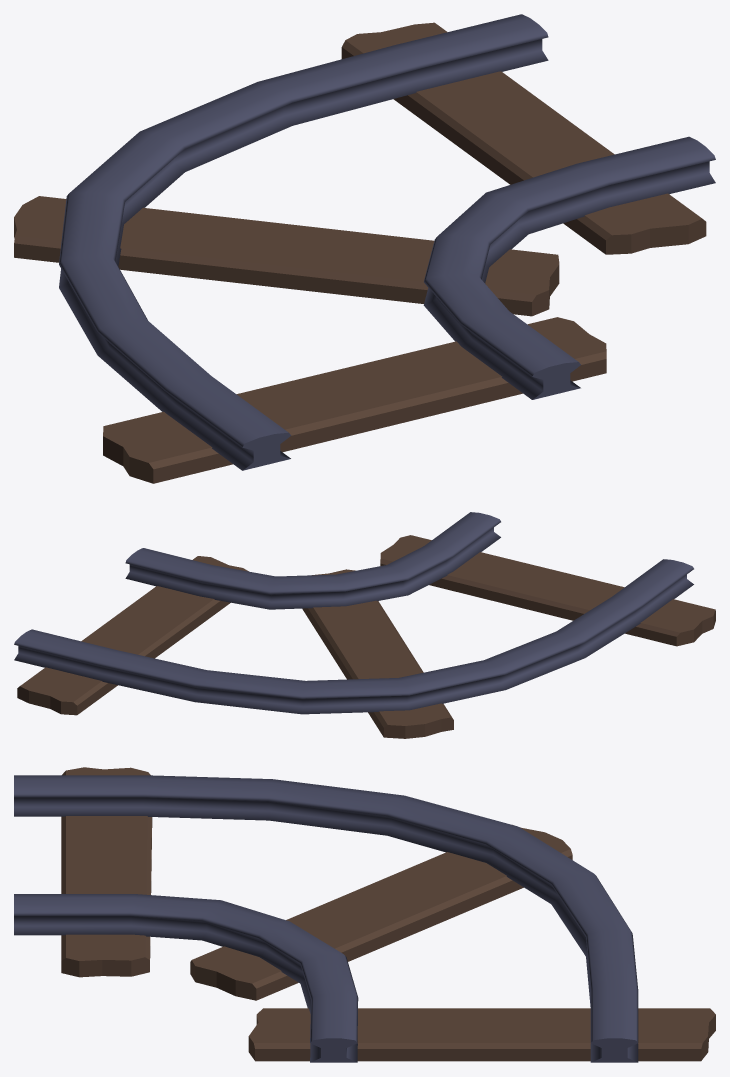
File: MDL_CurvedRail.fbx
The picture shows the model from 3 angles, top to bottom: view 1: azimuth 30°, elevation 25°; view 2: azimuth 150°, elevation 25°; view 3: azimuth 270°, elevation 25°; orthographic projection. The views are drawn at different scales.
Visible parts, largest first — view 1: CurvedRail_Steel, CurvedRail_WoodBeams; view 2: CurvedRail_Steel, CurvedRail_WoodBeams; view 3: CurvedRail_Steel, CurvedRail_WoodBeams.
Part boxes in pixels (x1,y1,x2,y2): CurvedRail_Steel: (59, 14, 715, 470); CurvedRail_WoodBeams: (14, 22, 706, 483); CurvedRail_Steel: (14, 512, 693, 714); CurvedRail_WoodBeams: (17, 535, 715, 738); CurvedRail_Steel: (14, 775, 638, 1062); CurvedRail_WoodBeams: (61, 767, 715, 1061).
Bounding box in the file's own units: 197 × 12.5 × 198.
